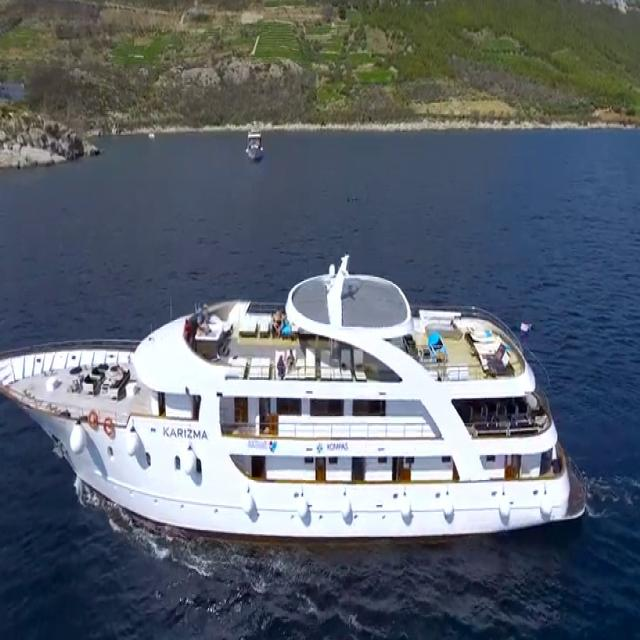houseboat: (245, 125, 265, 167)
passenger ship: (0, 252, 582, 533)
